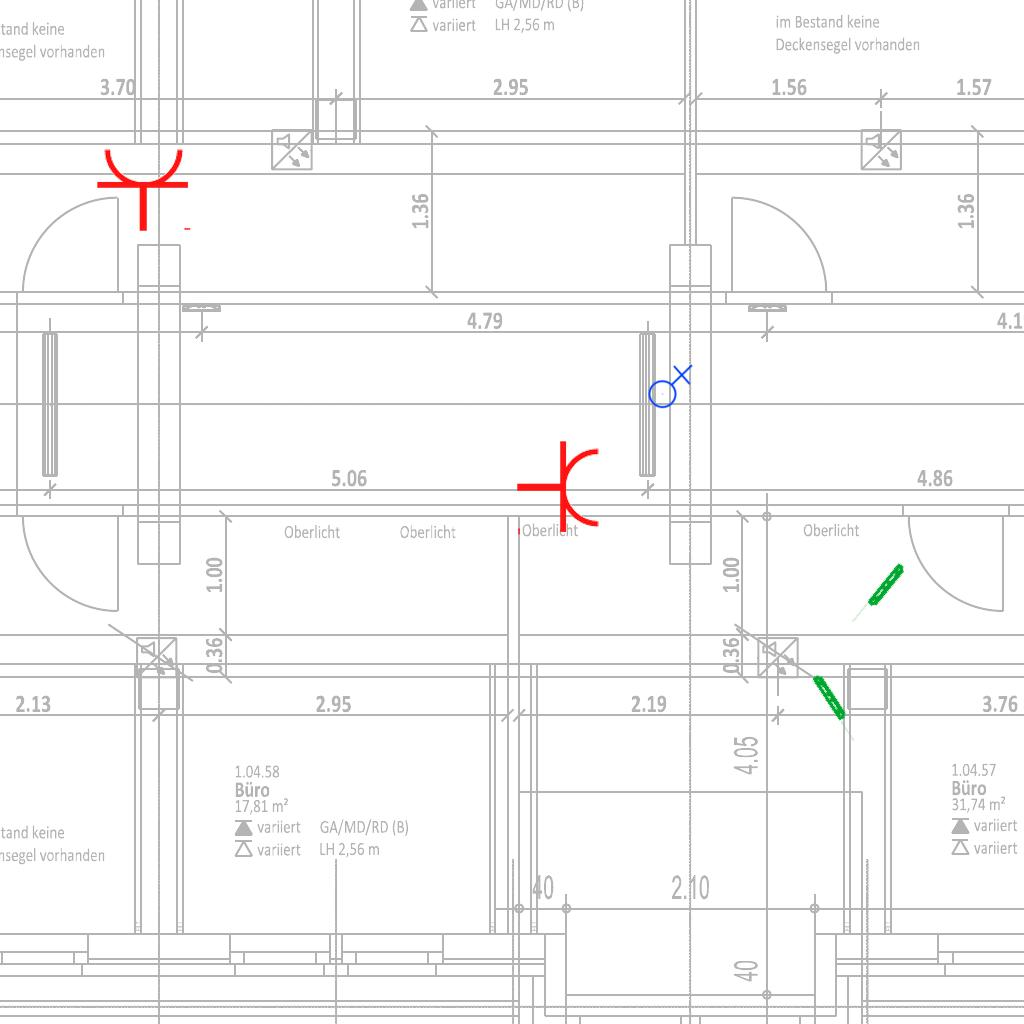Elektroanschluss_allgemein_230V_Geraeteanschlussdose_230V: (644, 362, 693, 409)
Schukosteckdose_einfach: (515, 439, 602, 539), (95, 146, 195, 233)
Sicherheitsleuchte_Wandeinbau: (849, 561, 909, 630), (810, 671, 864, 744)
